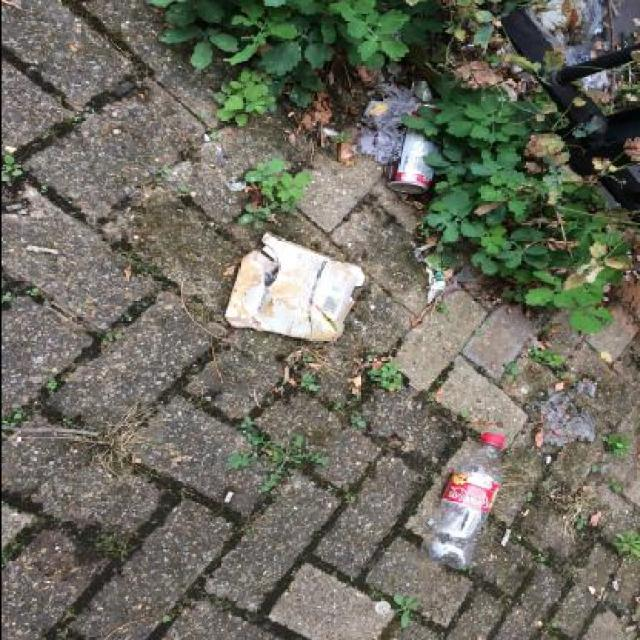cardboard: (223, 232, 365, 342)
metal: (385, 104, 443, 194)
plastic: (417, 432, 505, 570)
